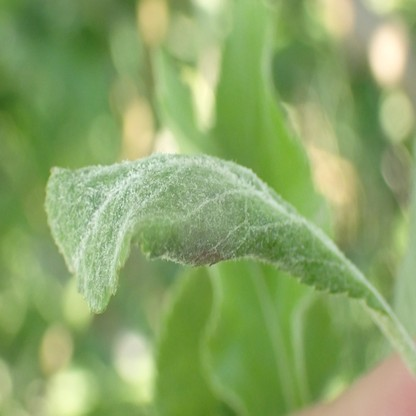powder: (44, 153, 383, 316)
